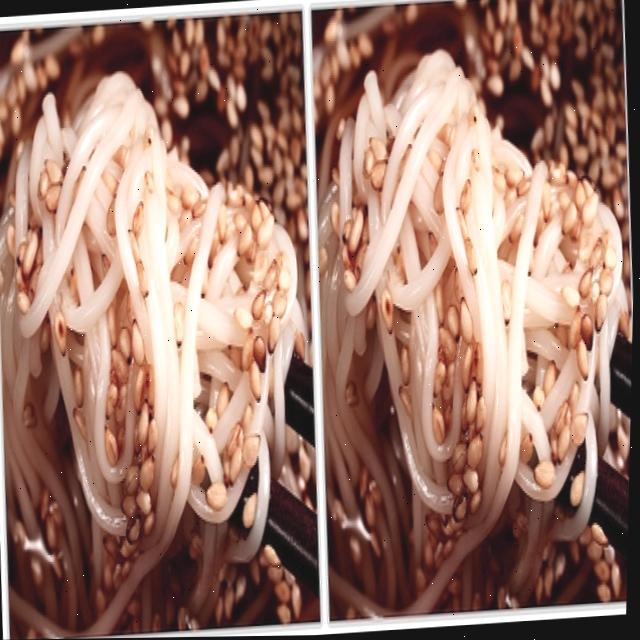牛肉菜式: (0, 22, 639, 640)
